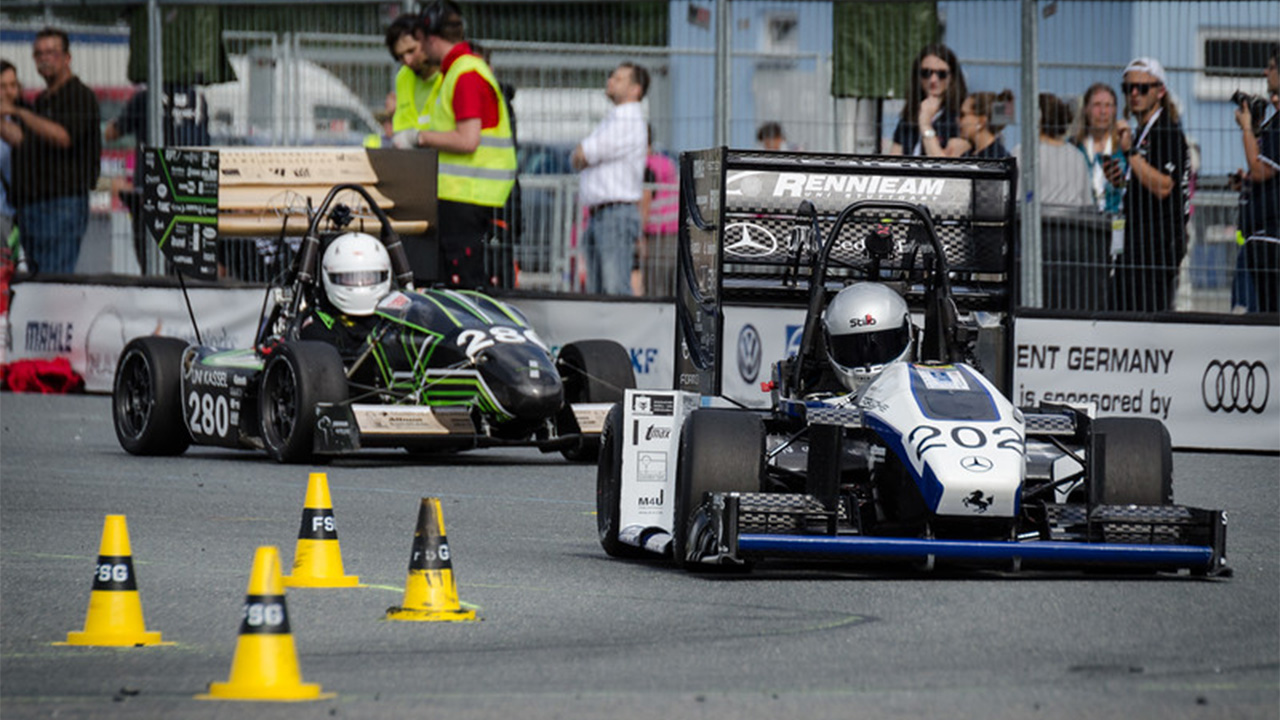cone: (193, 547, 326, 701), (56, 504, 184, 656), (377, 495, 481, 623), (271, 465, 371, 592)
